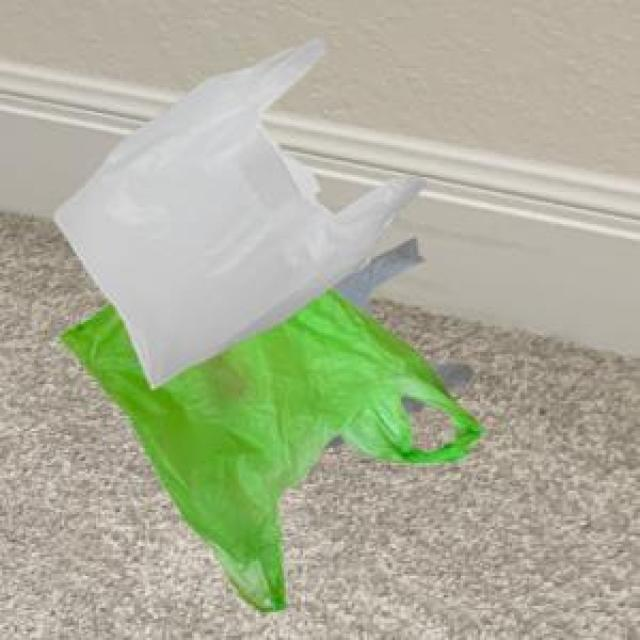plastic: (38, 23, 512, 640)
